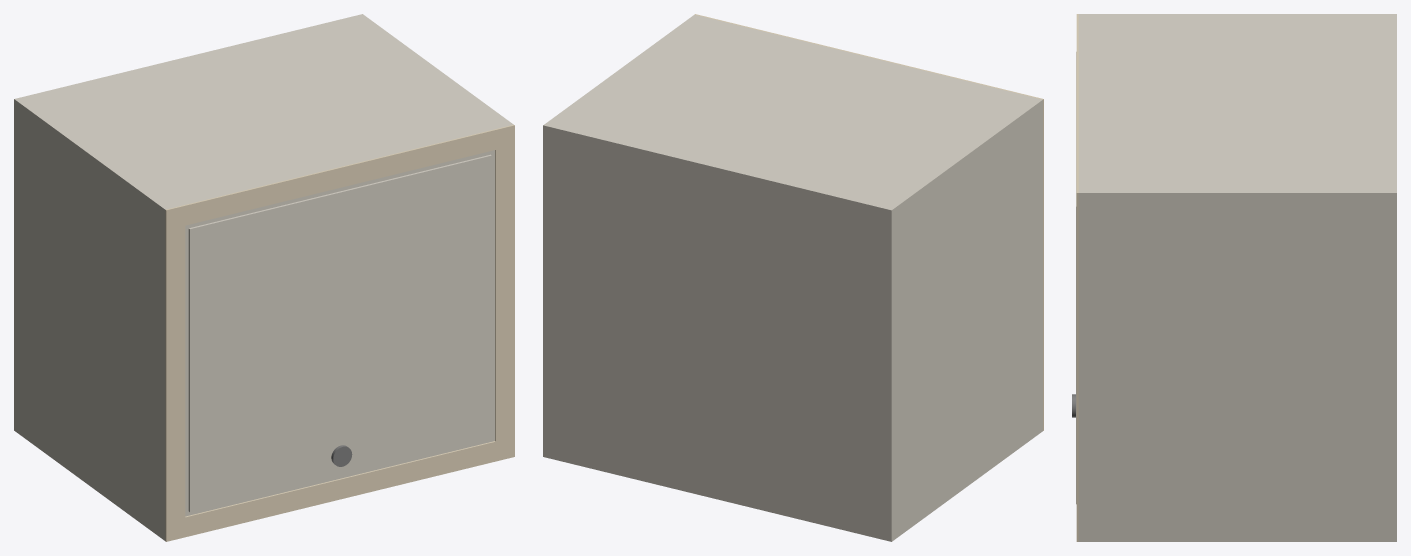
The model's file is v2-real-overhead-1.glb.
3 views of the same model, side by side, from view 1: azimuth 30°, elevation 25°; view 2: azimuth 150°, elevation 25°; view 3: azimuth 270°, elevation 25° (orthographic). The views are drawn at different scales.
Size of the model in its own units: 330 by 300 by 253.
